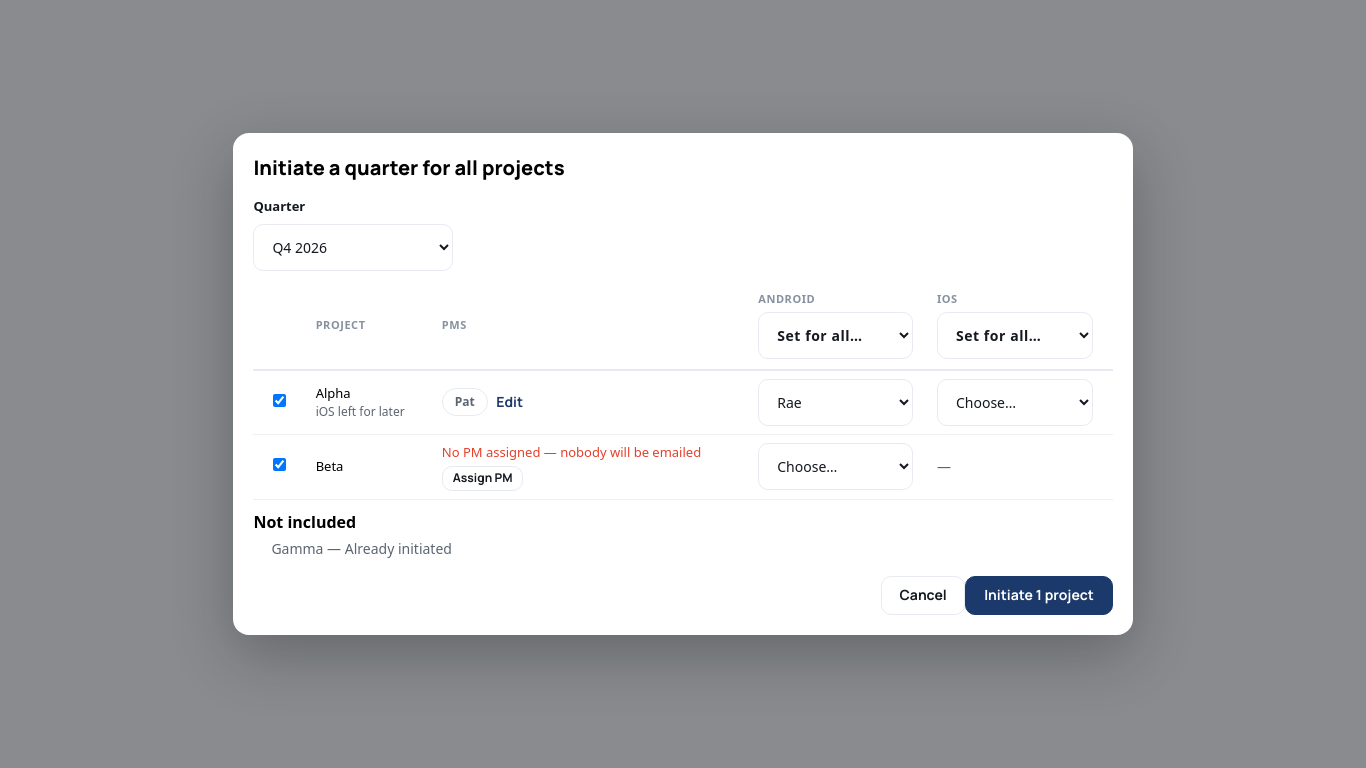
Test: a project without a PM can get one from the dialog, and the row shows it
The image size is (1366, 768).
Click the button with aria-label "Assign PM for Beta" at coordinates (483, 478), box top-left (442, 466), bottom-right (523, 491)
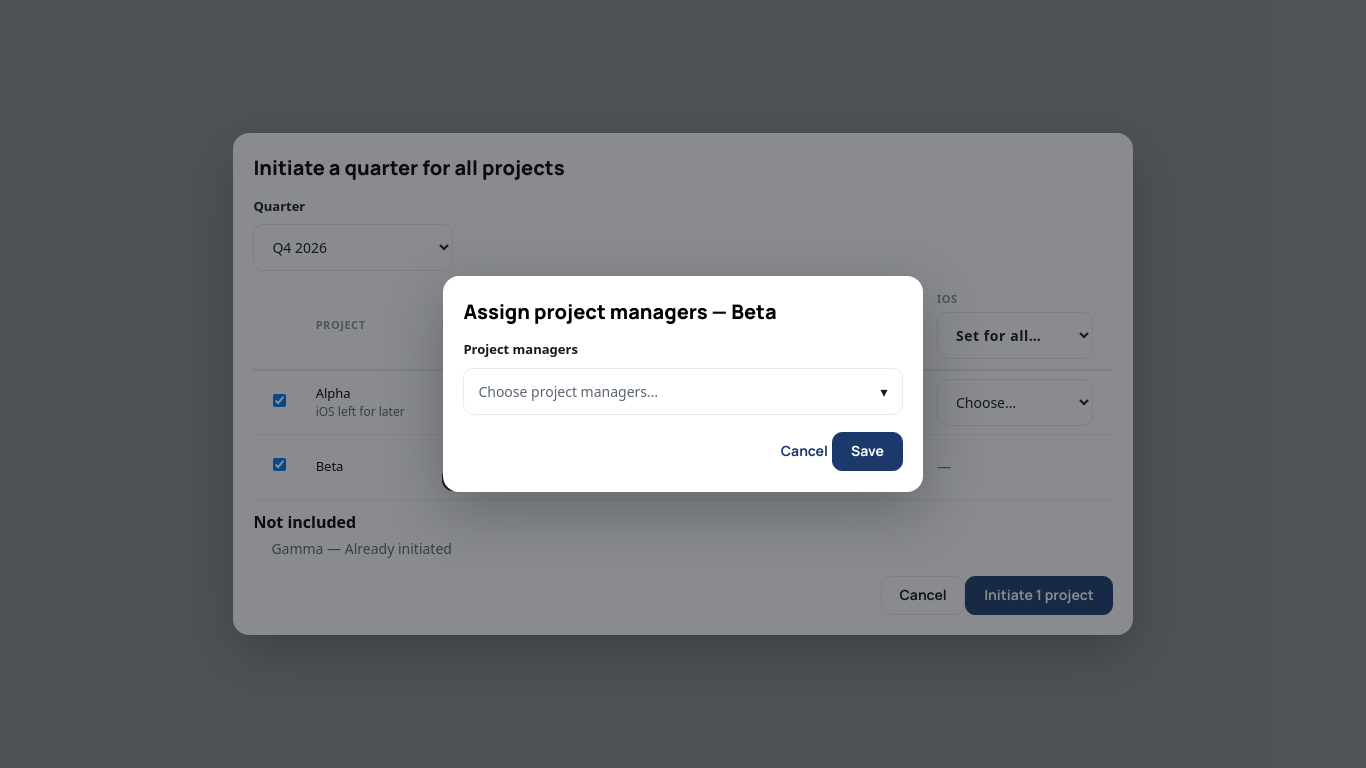
Click the button "Choose project managers… ▾" at coordinates (568, 391), box top-left (463, 368), bottom-right (903, 415)
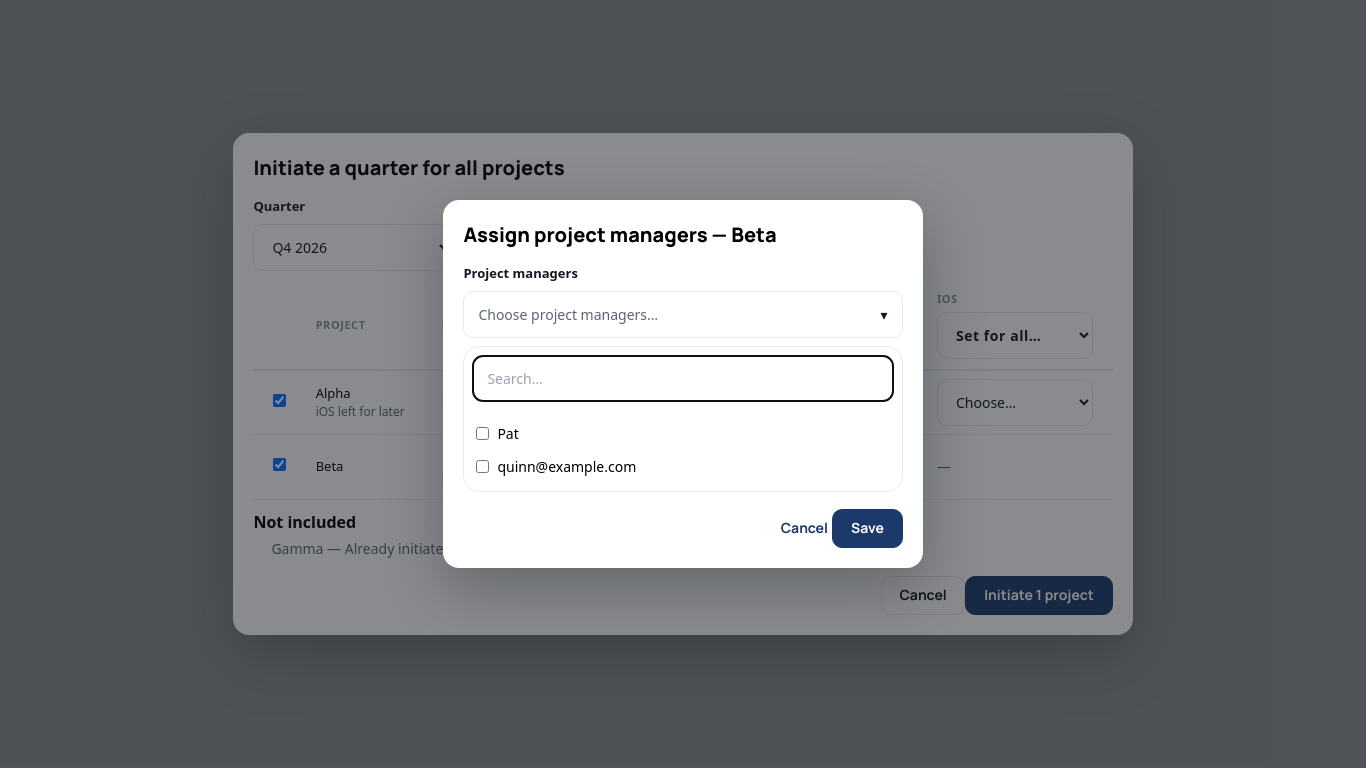
Click the checkbox labelled "quinn@example.com" at coordinates (483, 466), box top-left (476, 460), bottom-right (489, 473)
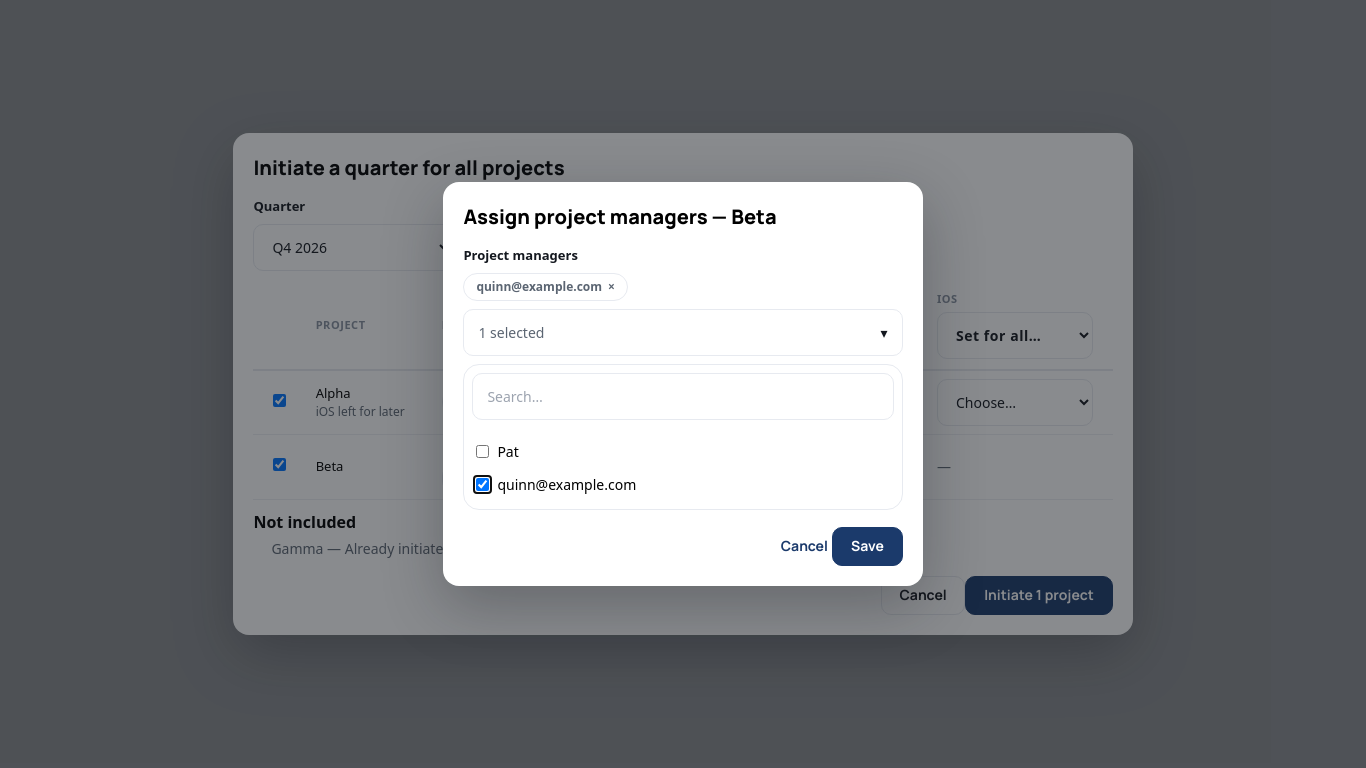
Click the button "Save" at coordinates (868, 546), box top-left (832, 527), bottom-right (903, 566)
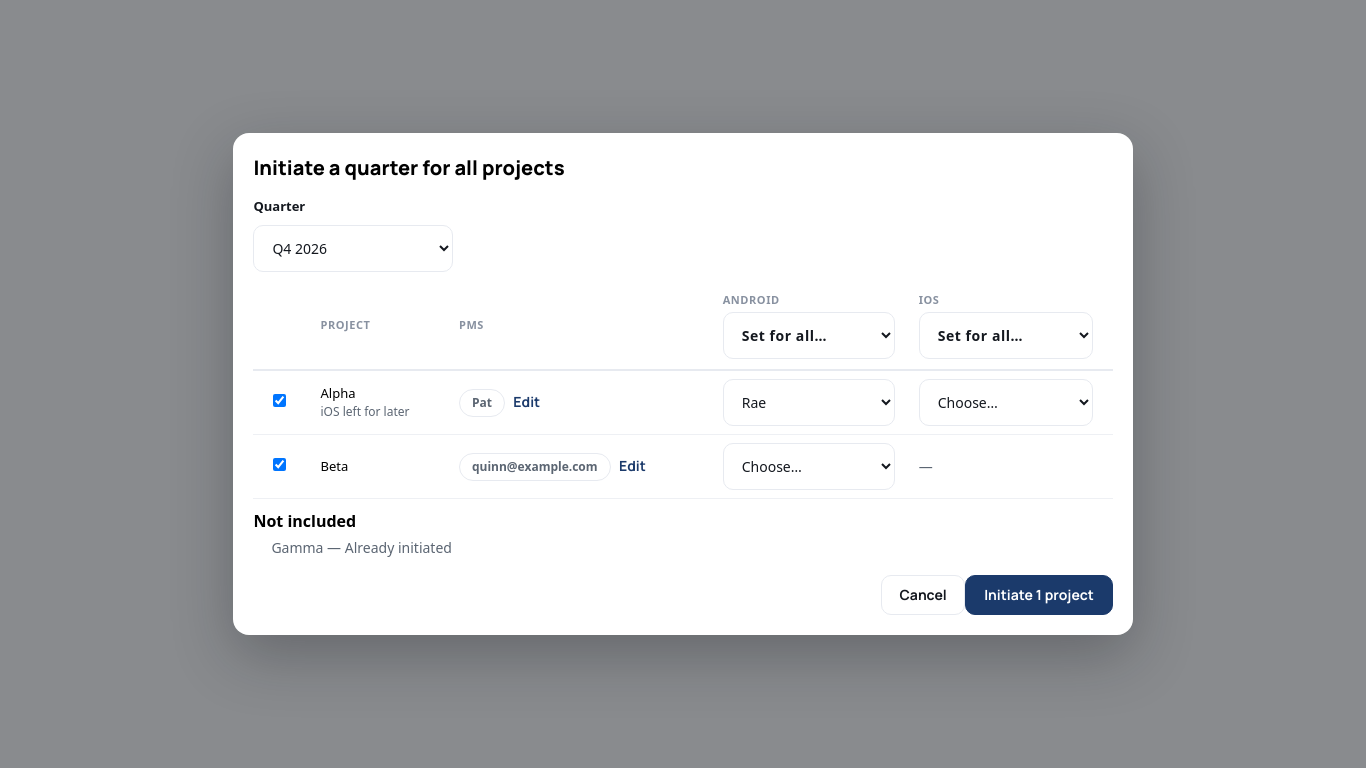
Expected: the dropdown named "Alpha reviewer for Android" shows "Rae", top-left (723, 379), bottom-right (895, 426)
Expected: the text "quinn@example.com" is shown, top-left (459, 453), bottom-right (611, 481)
Expected: the text "No PM assigned" is gone
